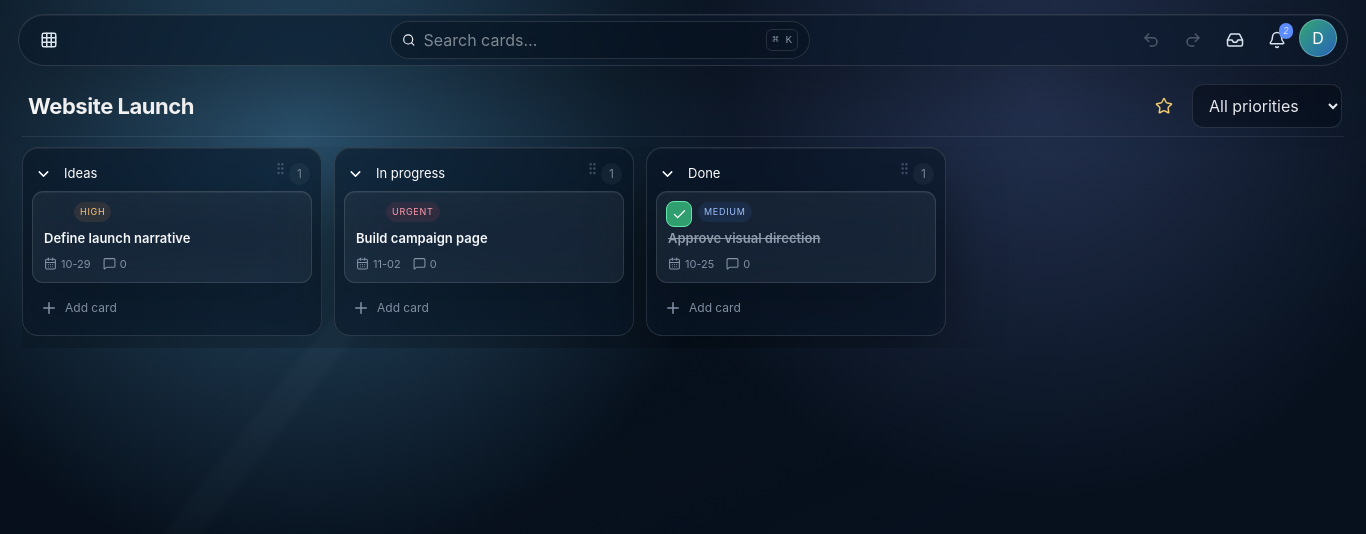
it: Glassboard › switches to dashboard analytics
Click the button named "open navigation menu". click: coordinates (49, 40)
box: [29,19,69,61]
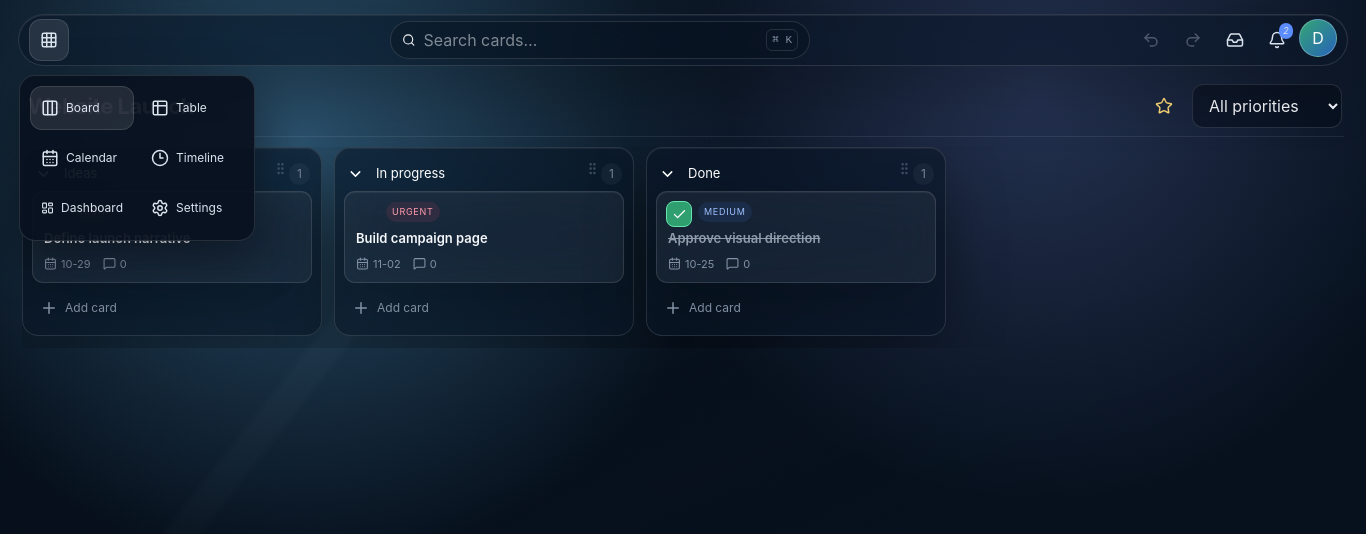
Click the button with aria-label "dashboard view". click: coordinates (82, 208)
box: [30,186,134,230]
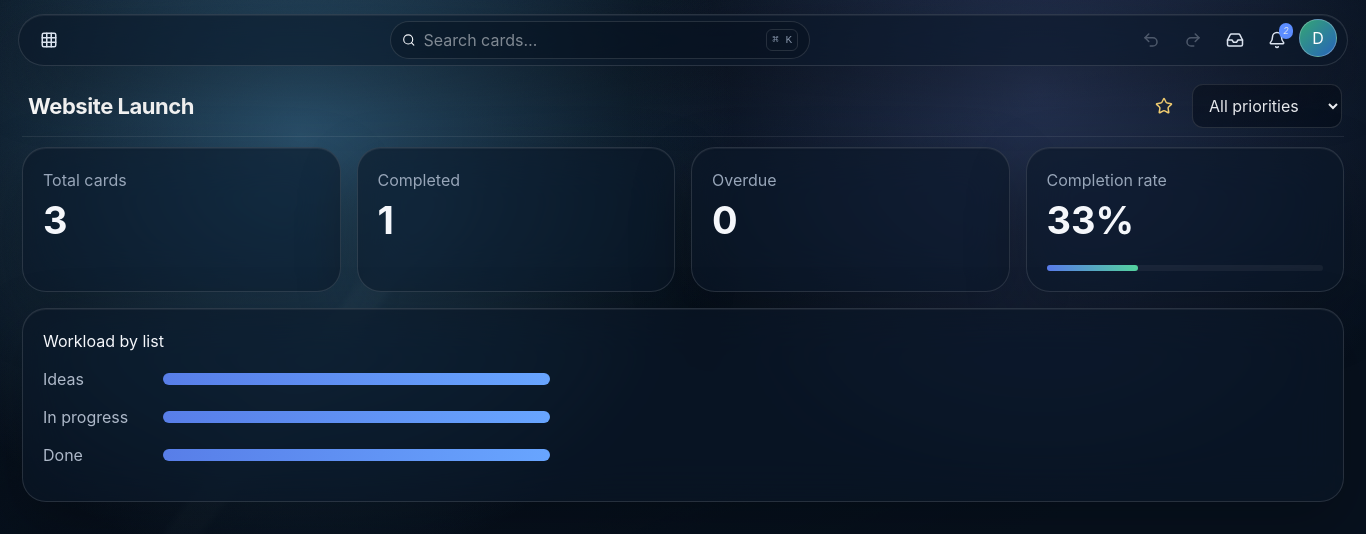
Check: the text "Completion rate" is shown, box [1046,170,1167,190]
